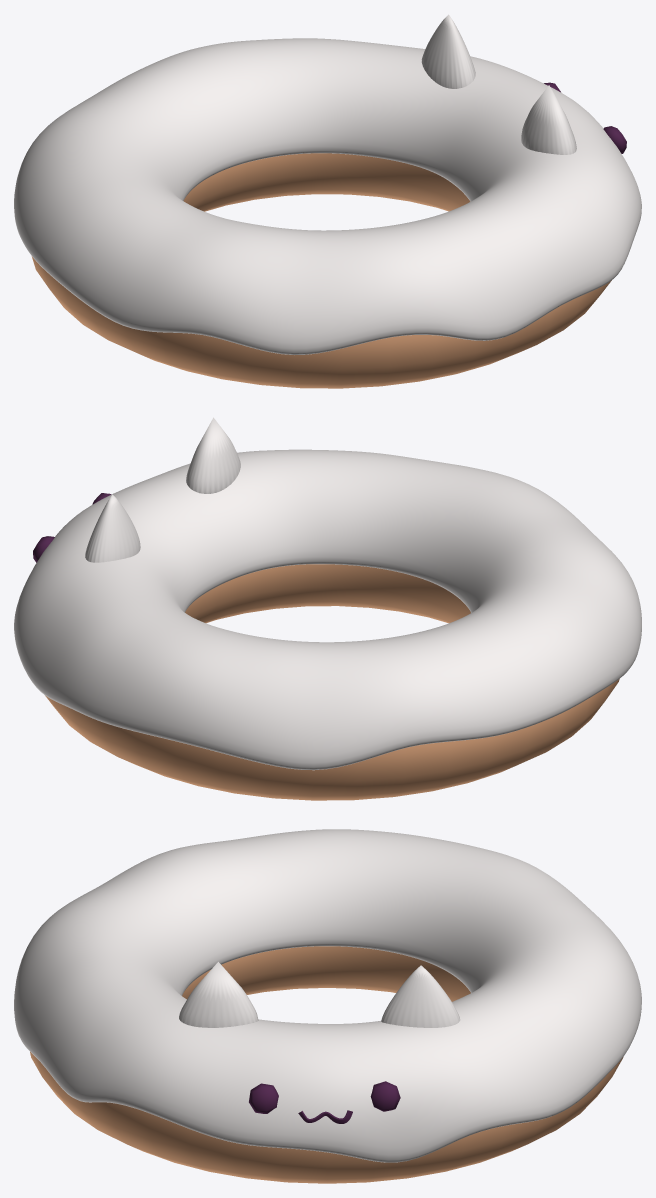
Rendered from catdonut.fbx.
The picture shows the model from 3 angles, top to bottom: view 1: azimuth 30°, elevation 25°; view 2: azimuth 150°, elevation 25°; view 3: azimuth 270°, elevation 25°; orthographic projection.
Visible parts, largest first — view 1: Torus.001, Torus.003, Cone.001, Cone; view 2: Torus.001, Torus.003, Cone, Cone.001; view 3: Torus.001, Torus.003, Cone, Cone.001, Cube, Cube.001.
Part boxes in pixels (box(x1,y1,x2,y2)): Torus.001: box(14, 38, 641, 354); Torus.003: box(31, 153, 611, 388); Cone.001: box(421, 14, 475, 88); Cone: box(521, 85, 576, 154); Torus.001: box(14, 449, 641, 770); Torus.003: box(45, 564, 619, 800); Cone: box(186, 417, 240, 493); Cone.001: box(85, 494, 140, 562); Torus.001: box(14, 829, 641, 1162); Torus.003: box(30, 946, 623, 1183); Cone: box(179, 962, 258, 1027); Cone.001: box(381, 965, 460, 1027); Cube: box(249, 1083, 278, 1113); Cube.001: box(370, 1081, 400, 1111).
Size of the model in its own units: 565 by 198 by 563.
